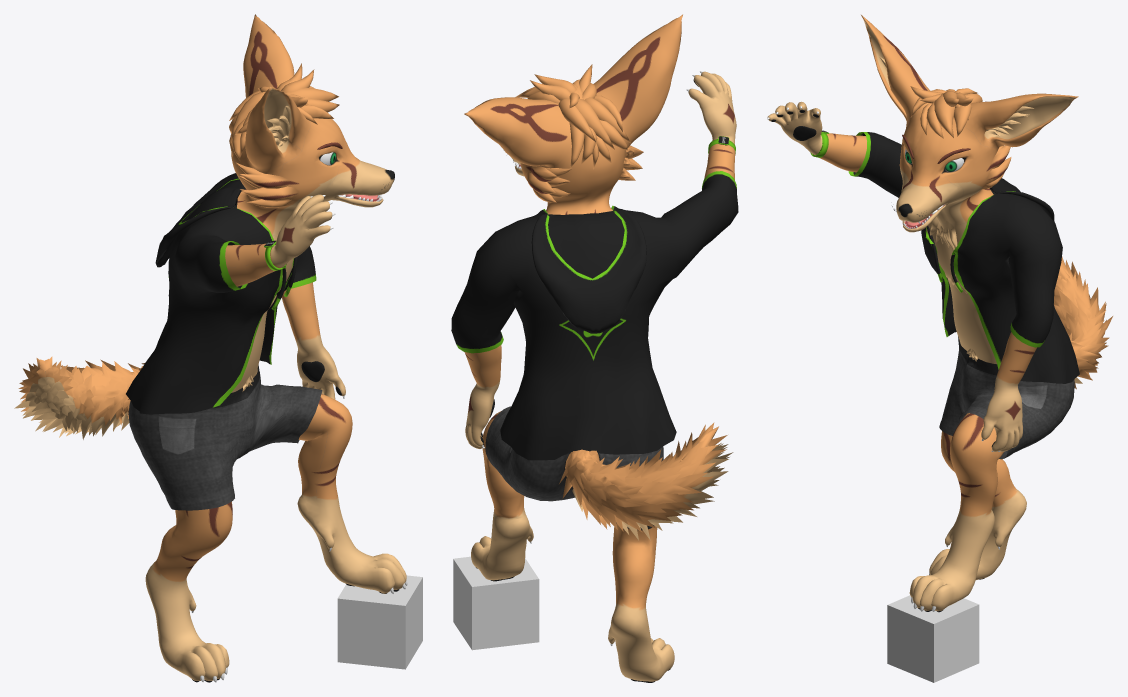
Rendered from Lio_render.fbx.
The picture shows the model from 3 angles, left to right: view 1: azimuth 30°, elevation 25°; view 2: azimuth 150°, elevation 25°; view 3: azimuth 270°, elevation 25°; orthographic projection. The views are drawn at different scales.
Visible parts, largest first — view 1: Body, Cube.001; view 2: Body, Cube.001; view 3: Body, Cube.001.
Boxes of the visible parts, x1,y1,x2,y2 form: Body: (14,14,407,682); Cube.001: (337,575,422,669); Body: (451,14,738,682); Cube.001: (453,556,539,650); Body: (767,15,1112,612); Cube.001: (887,595,979,682).
Size of the model in its own units: 96.17 by 172 by 92.41.
